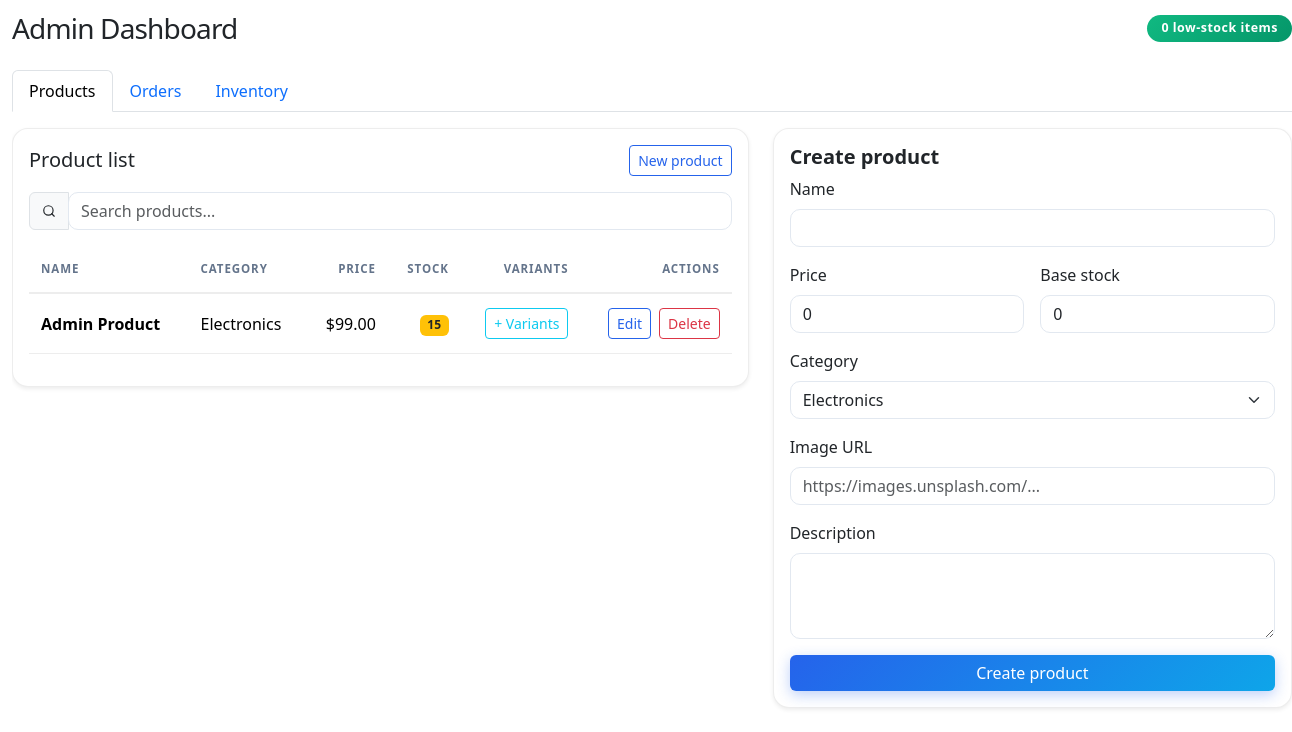
AdminDashboardPage › inventory tab shows products sorted by stock
Click the tab "Inventory" at (252, 91), box [198, 70, 305, 112]
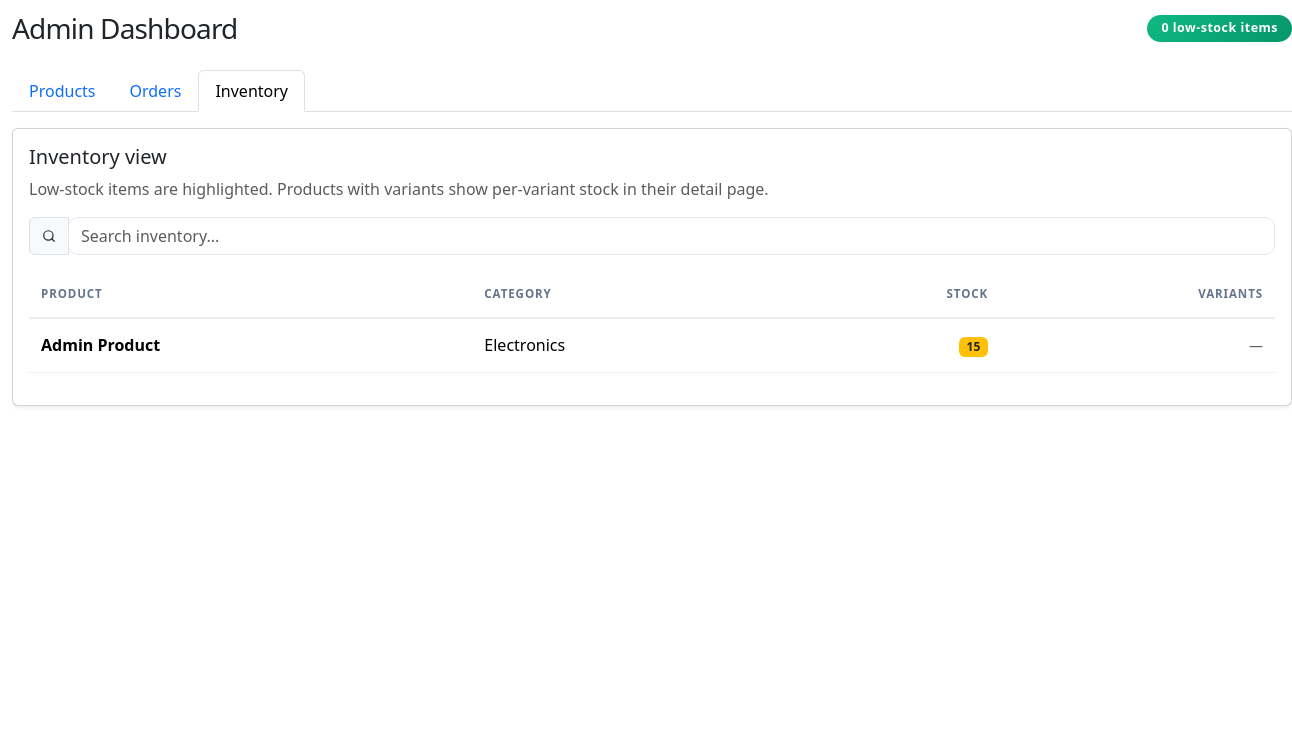
Check: the table named "inventory table" is shown, box [29, 271, 1275, 373]
